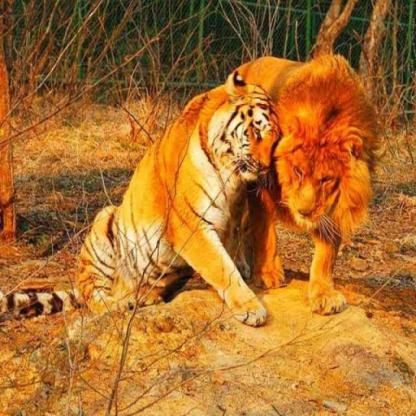Tiger: (67, 70, 280, 334)
